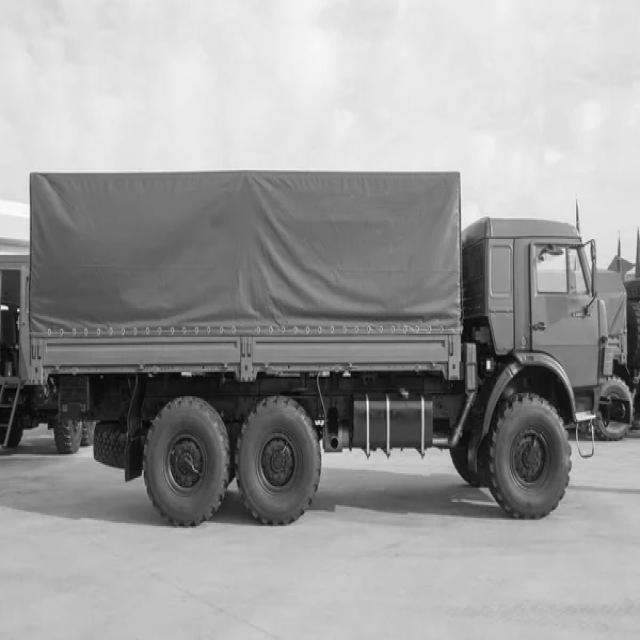Truck: (21, 172, 604, 526)
